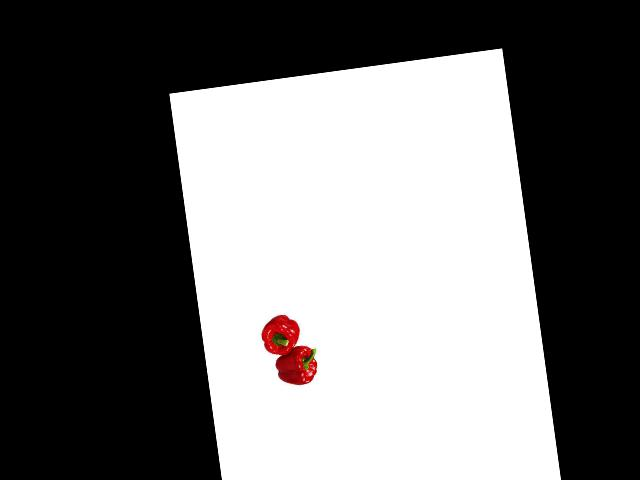bell_pepper: (270, 342, 322, 389)
